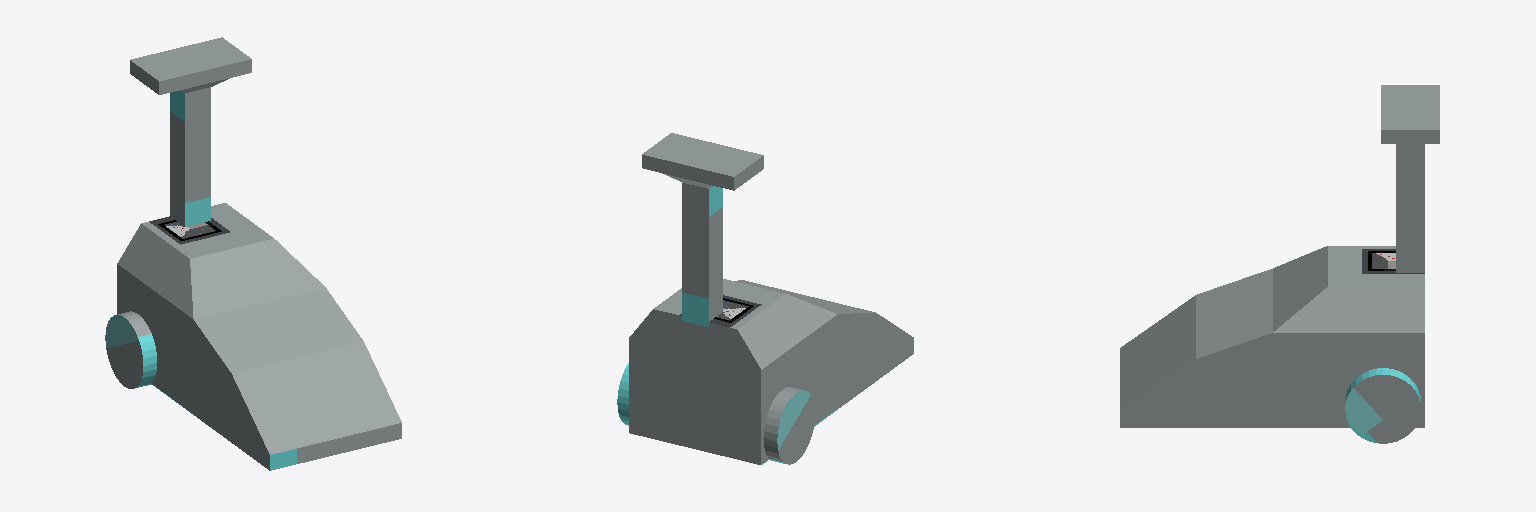
3 views of the same model, side by side, from view 1: azimuth 30°, elevation 25°; view 2: azimuth 150°, elevation 25°; view 3: azimuth 270°, elevation 25° (orthographic).
Parts seen in each view (by area): view 1: Robot; view 2: Robot; view 3: Robot.
Boxes of the visible parts, box(x1,y1,x2,y2) form: Robot: box(105, 37, 401, 470); Robot: box(617, 133, 913, 464); Robot: box(1120, 85, 1439, 443).
Bounding box in the file's own units: 0.5324 × 0.9467 × 0.9228.
1 materials, 1 textured.